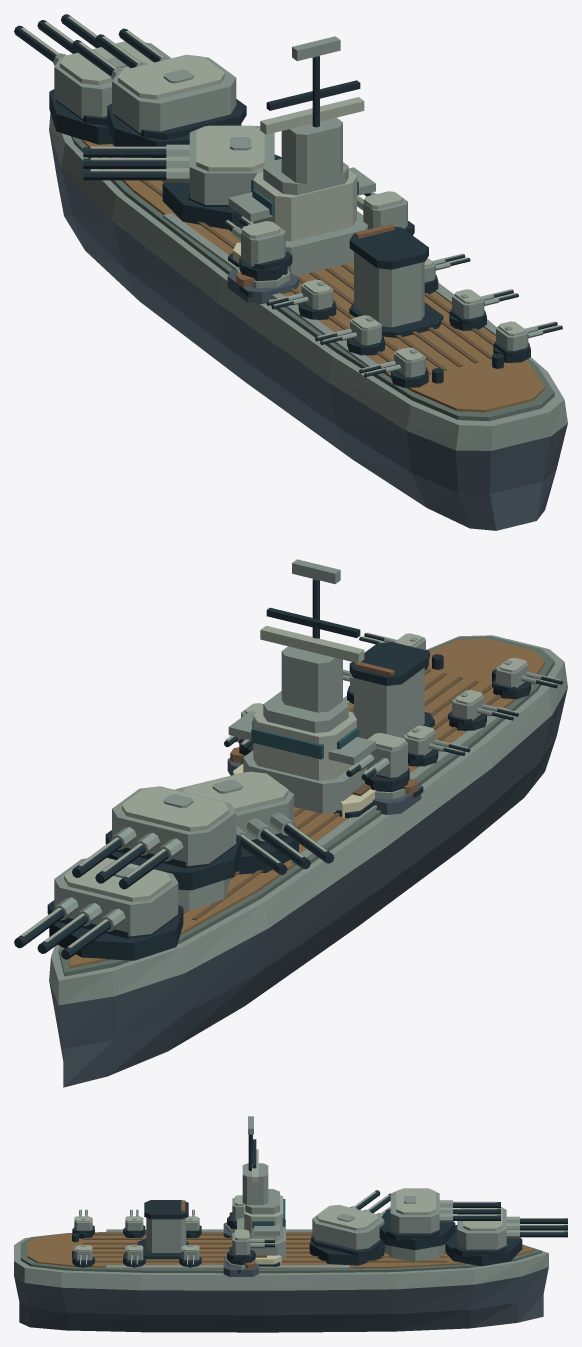
The model's file is historic-rodney.glb.
3 views of the same model, one above another, from view 1: azimuth 30°, elevation 25°; view 2: azimuth 150°, elevation 25°; view 3: azimuth 270°, elevation 25° (orthographic). The views are drawn at different scales.
Parts seen in each view (by area): view 1: historic-rodney-historic-rodney-geometry, historic-rodney-part_bridge.016-geometry, historic-rodney-turret_main_1.012-geometry, historic-rodney-turret_main_2.012-geometry, historic-rodney-historic_funnel_0.017-geometry, historic-rodney-turret_main_0.013-geometry, historic-rodney-turret_aa_aa-port.018-geometry, historic-rodney-turret_aa_aa-starboard.016-geometry, historic-rodney-turret_secondary_4.004-geometry, historic-rodney-turret_secondary_0.005-geometry, historic-rodney-turret_secondary_2.004-geometry, historic-rodney-turret_secondary_5.004-geometry (+3 smaller); view 2: historic-rodney-historic-rodney-geometry, historic-rodney-part_bridge.016-geometry, historic-rodney-turret_main_1.012-geometry, historic-rodney-turret_main_0.013-geometry, historic-rodney-turret_main_2.012-geometry, historic-rodney-historic_funnel_0.017-geometry, historic-rodney-turret_aa_aa-port.018-geometry, historic-rodney-turret_secondary_2.004-geometry, historic-rodney-turret_secondary_1.005-geometry, historic-rodney-turret_secondary_0.005-geometry, historic-rodney-part_aa-port.018-geometry, historic-rodney-turret_secondary_5.004-geometry; view 3: historic-rodney-historic-rodney-geometry, historic-rodney-turret_main_1.012-geometry, historic-rodney-turret_main_2.012-geometry, historic-rodney-turret_main_0.013-geometry, historic-rodney-part_bridge.016-geometry, historic-rodney-historic_funnel_0.017-geometry, historic-rodney-turret_aa_aa-starboard.016-geometry, historic-rodney-turret_secondary_1.005-geometry, historic-rodney-turret_secondary_2.004-geometry, historic-rodney-turret_secondary_5.004-geometry, historic-rodney-part_aa-starboard.016-geometry, historic-rodney-turret_secondary_4.004-geometry (+3 smaller).
Boxes of the visible parts, x1,y1,x2,y2 form: historic-rodney-historic-rodney-geometry: (49, 113, 567, 530); historic-rodney-part_bridge.016-geometry: (228, 36, 375, 275); historic-rodney-turret_main_1.012-geometry: (72, 28, 246, 157); historic-rodney-turret_main_2.012-geometry: (83, 125, 281, 229); historic-rodney-historic_funnel_0.017-geometry: (349, 224, 443, 337); historic-rodney-turret_main_0.013-geometry: (14, 14, 170, 144); historic-rodney-turret_aa_aa-port.018-geometry: (224, 216, 292, 281); historic-rodney-turret_aa_aa-starboard.016-geometry: (357, 191, 414, 235); historic-rodney-turret_secondary_4.004-geometry: (449, 289, 518, 330); historic-rodney-turret_secondary_0.005-geometry: (266, 279, 336, 319); historic-rodney-turret_secondary_2.004-geometry: (359, 347, 428, 387); historic-rodney-turret_secondary_5.004-geometry: (493, 321, 562, 362); historic-rodney-historic-rodney-geometry: (49, 635, 567, 1087); historic-rodney-part_bridge.016-geometry: (228, 559, 375, 813); historic-rodney-turret_main_1.012-geometry: (72, 786, 241, 890); historic-rodney-turret_main_0.013-geometry: (14, 858, 183, 960); historic-rodney-turret_main_2.012-geometry: (175, 771, 334, 874); historic-rodney-historic_funnel_0.017-geometry: (349, 642, 434, 739); historic-rodney-turret_aa_aa-port.018-geometry: (346, 733, 409, 792); historic-rodney-turret_secondary_2.004-geometry: (492, 657, 562, 699); historic-rodney-turret_secondary_1.005-geometry: (448, 690, 518, 730); historic-rodney-turret_secondary_0.005-geometry: (403, 725, 470, 766); historic-rodney-part_aa-port.018-geometry: (373, 778, 421, 814); historic-rodney-turret_secondary_5.004-geometry: (359, 632, 429, 669); historic-rodney-historic-rodney-geometry: (14, 1226, 548, 1332); historic-rodney-turret_main_1.012-geometry: (379, 1188, 500, 1250); historic-rodney-turret_main_2.012-geometry: (309, 1190, 390, 1265); historic-rodney-turret_main_0.013-geometry: (445, 1207, 567, 1266); historic-rodney-part_bridge.016-geometry: (237, 1116, 285, 1259); historic-rodney-historic_funnel_0.017-geometry: (137, 1200, 188, 1259); historic-rodney-turret_aa_aa-starboard.016-geometry: (227, 1229, 274, 1265); historic-rodney-turret_secondary_1.005-geometry: (123, 1209, 145, 1237); historic-rodney-turret_secondary_2.004-geometry: (72, 1209, 94, 1238); historic-rodney-turret_secondary_5.004-geometry: (72, 1245, 94, 1267); historic-rodney-part_aa-starboard.016-geometry: (223, 1257, 258, 1276); historic-rodney-turret_secondary_4.004-geometry: (123, 1245, 145, 1267).
Bounding box in the file's own units: 1.34 × 1.92 × 4.96.
